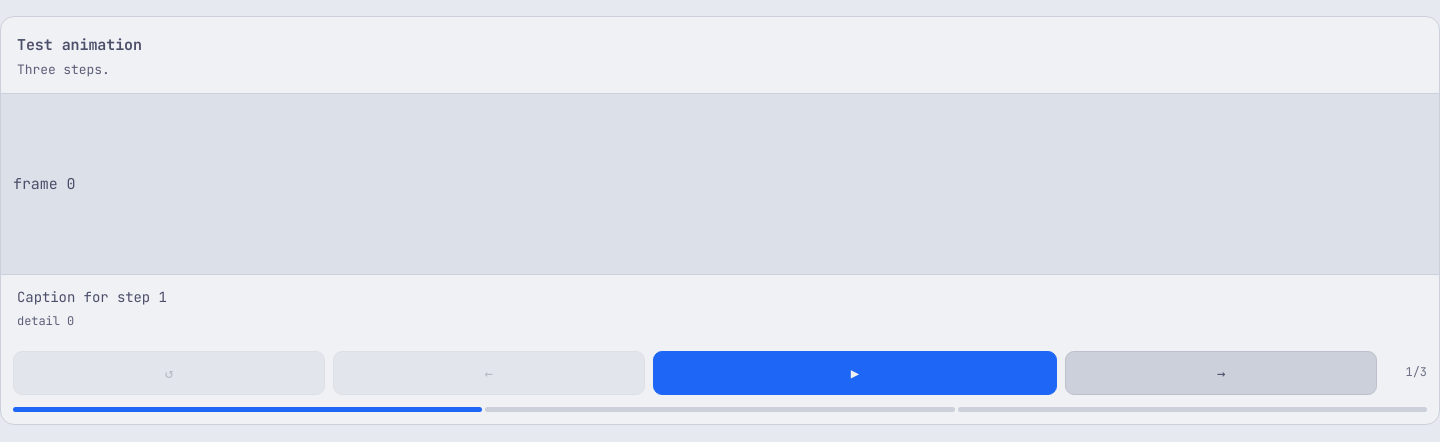
Test: AnimationPlayer › steps forward and back with the buttons
Click the button named "Next step". click: click(1221, 373)
box: top-left (1065, 351), bottom-right (1377, 395)
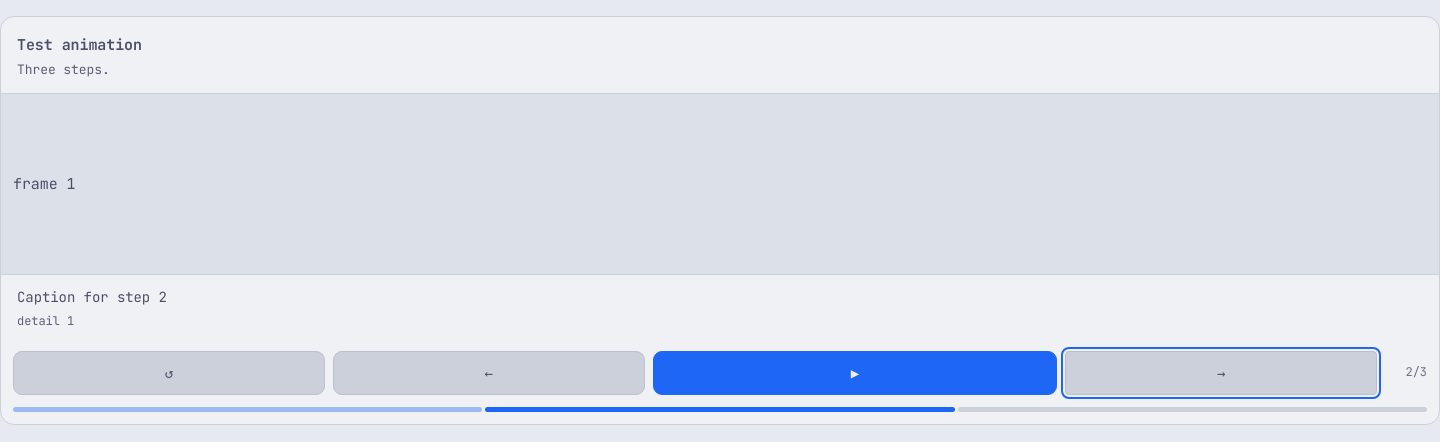
Expected: the text with test id "frame" reads "frame 1", top-left (13, 174), bottom-right (76, 194)
Expected: the text "Caption for step 2" is shown, top-left (17, 288), bottom-right (167, 306)
Click the button named "Previous step". click: click(489, 373)
box: top-left (333, 351), bottom-right (645, 395)
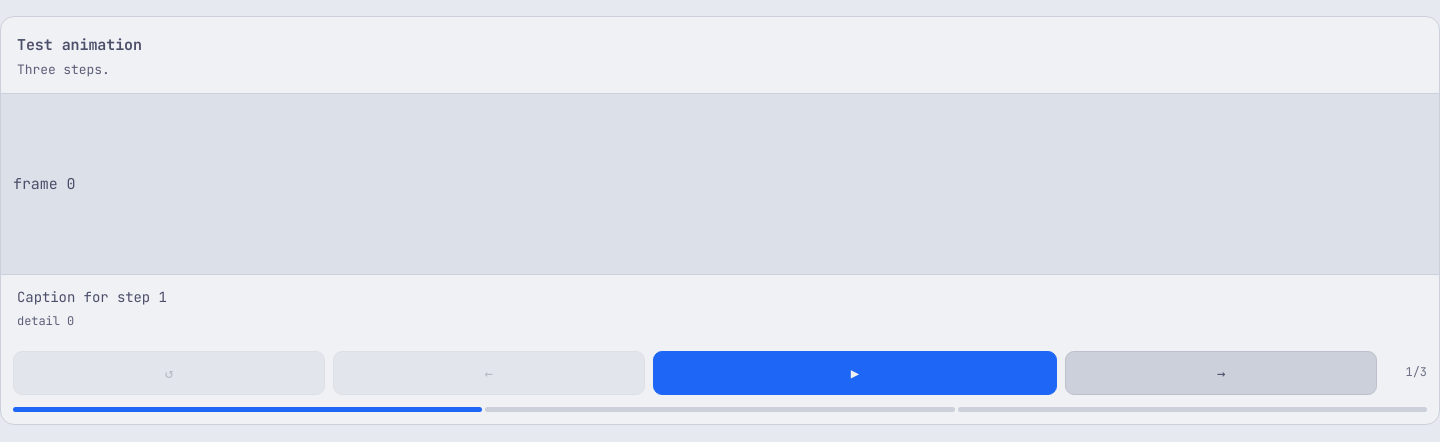
Expected: the text with test id "frame" reads "frame 0", top-left (13, 174), bottom-right (76, 194)
